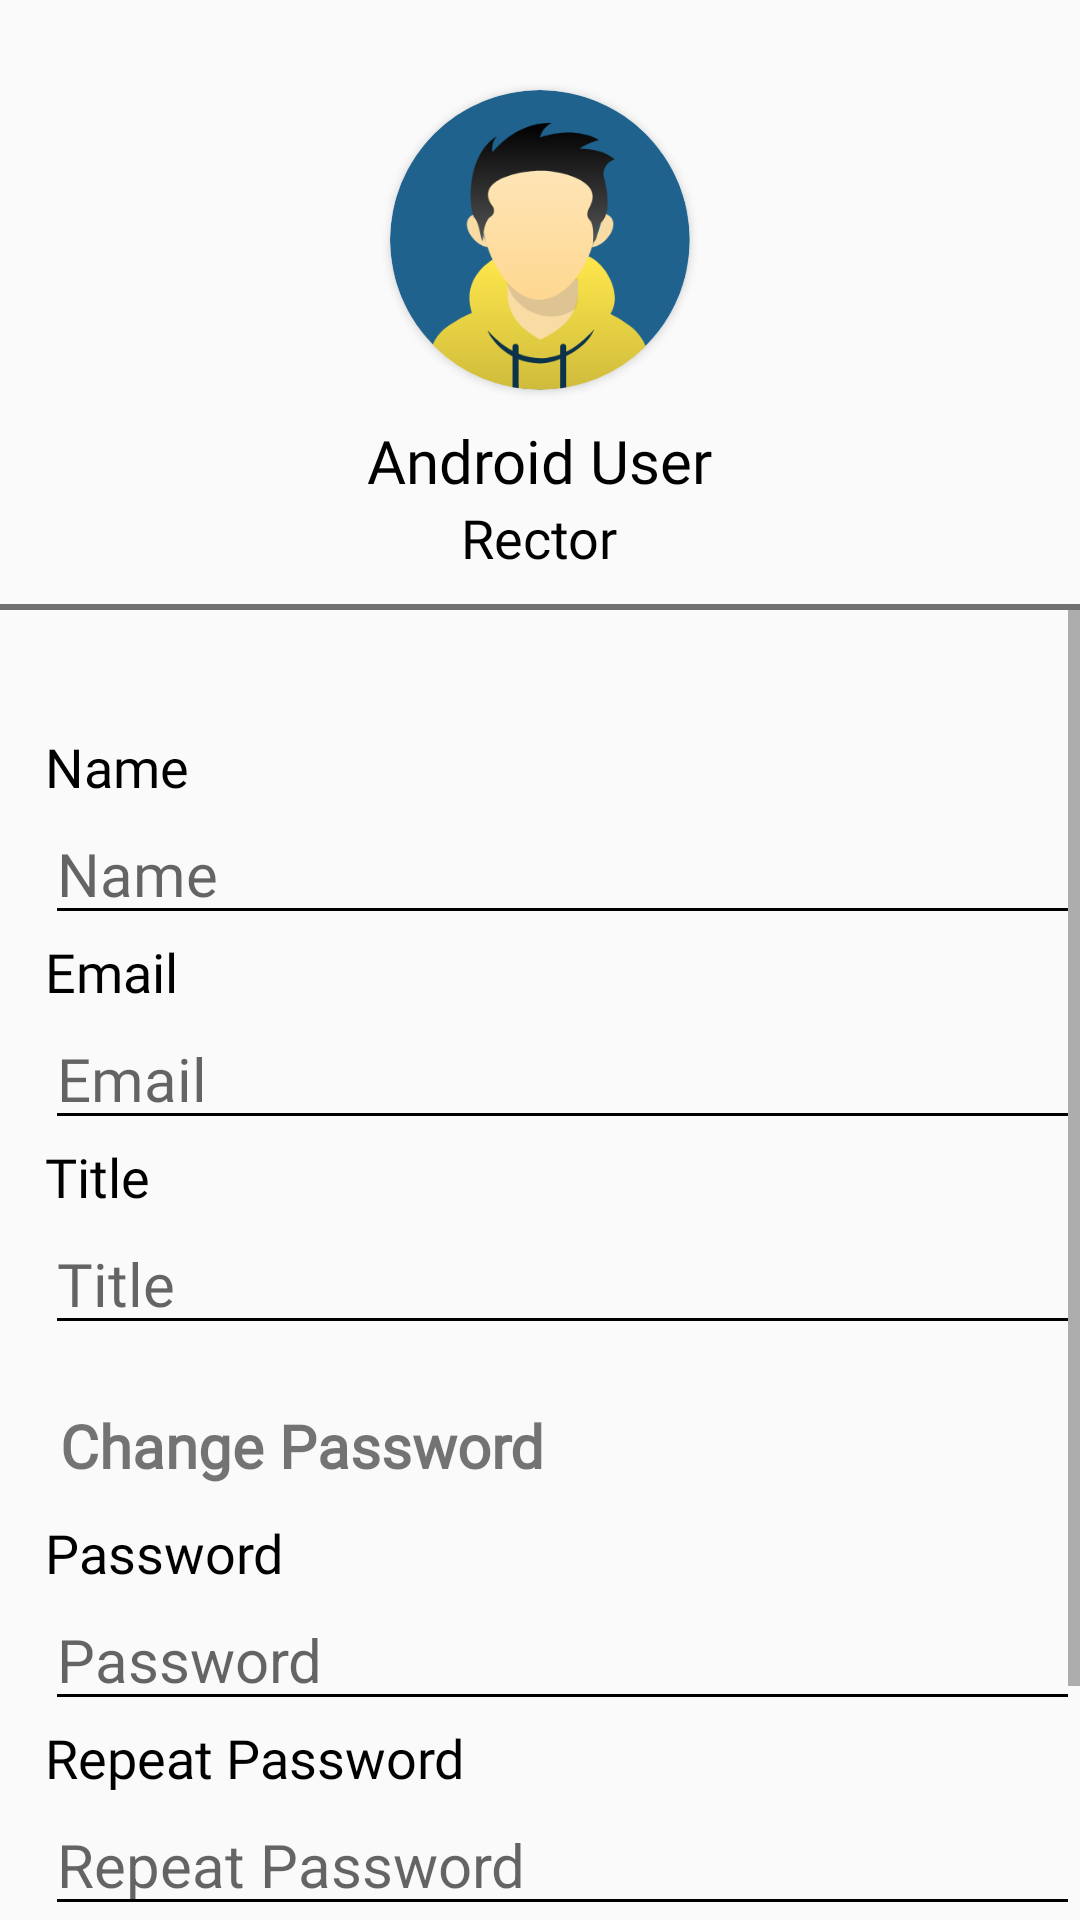

Screen size 1080px×1920px. Icon name, then its box in pixels as (x1, y1, x2, y2):
photo: (390, 90, 690, 390)
